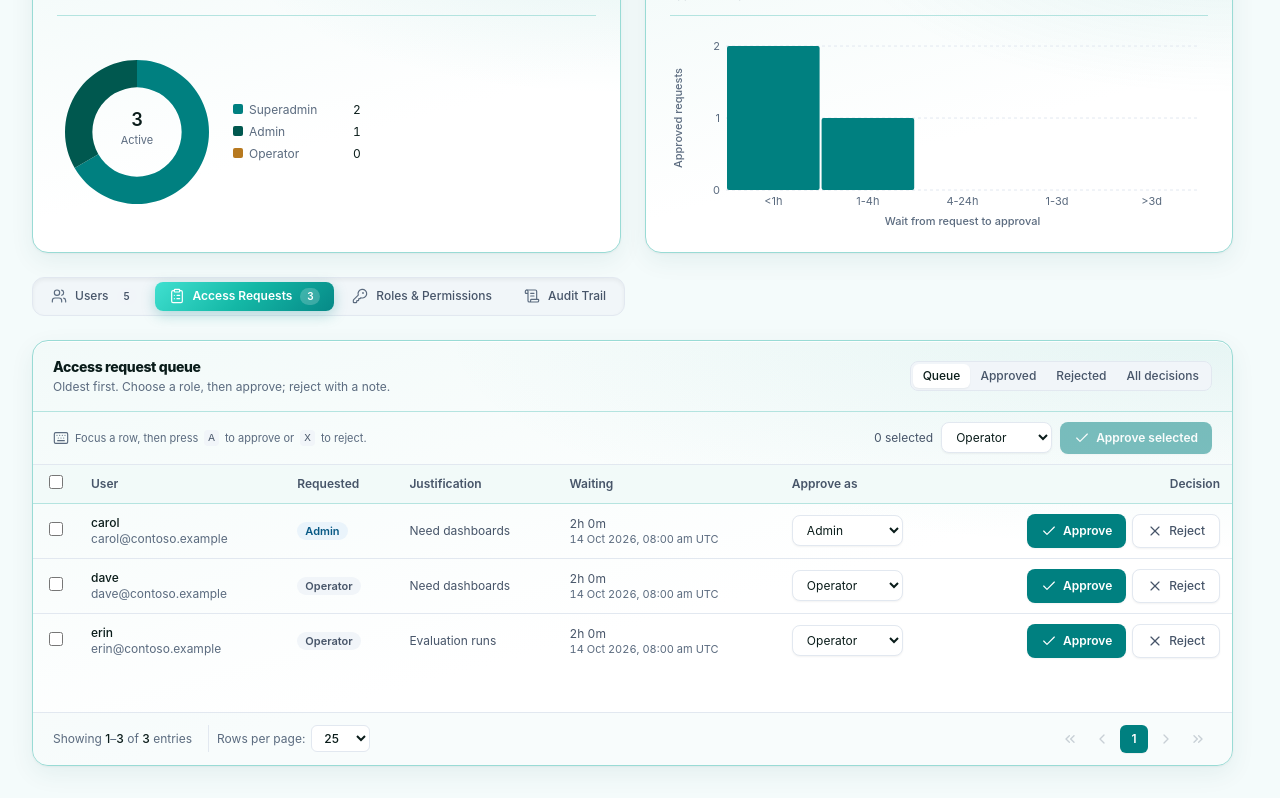
it: Access Requests tab › approves with the chosen role; the row animates out
This screenshot has width=1280, height=798.
(page scrolled)
Expected: the row with test id "request-row-r-2" is shown, [33,558,1232,613]
Select "Admin" in the dropdown named "Role for dave@contoso.example": coordinates (847, 586) [792,570,903,601]
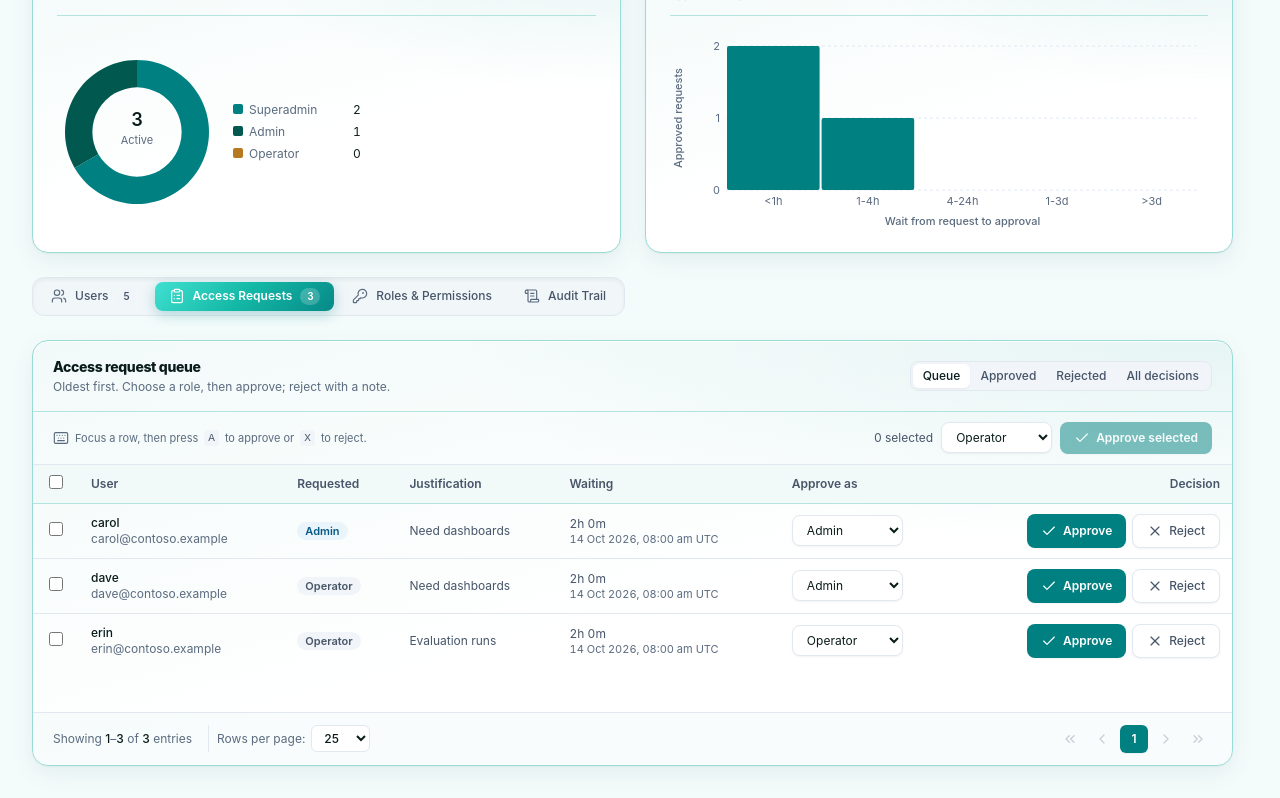
Click the button with aria-label "Approve dave@contoso.example": coordinates (1077, 586) [1027,569,1126,603]
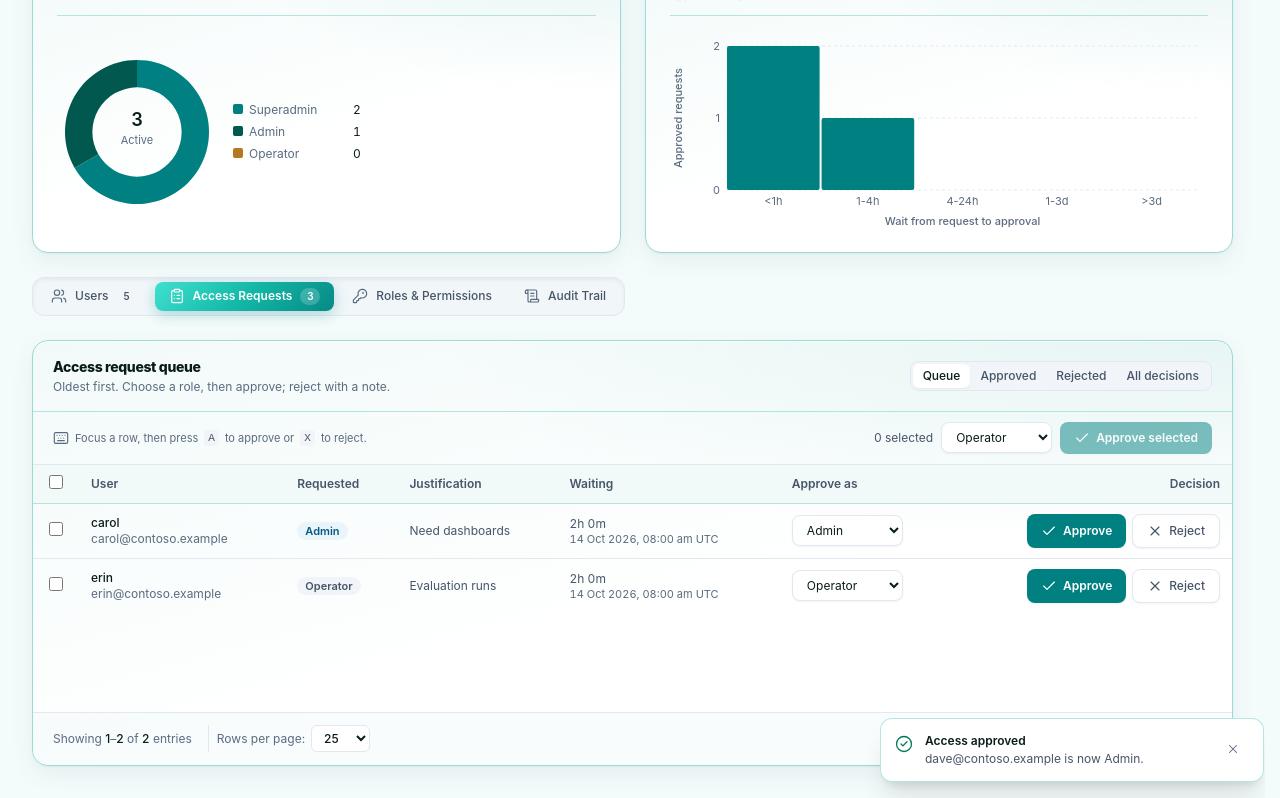
Result: the row with test id "request-row-r-2" is gone
Result: the text "Access approved" is shown at [925,733,1026,748]
